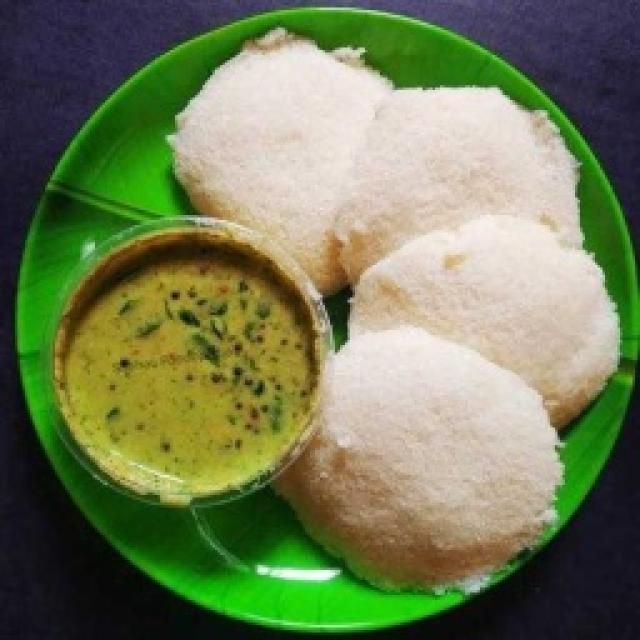idli: (275, 328, 562, 589), (170, 30, 392, 292), (350, 215, 619, 427), (335, 88, 582, 282)
